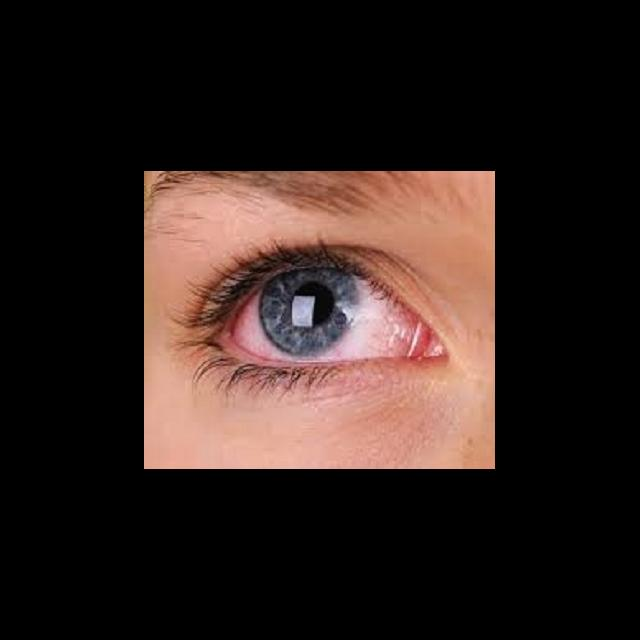eye: (229, 266, 414, 362)
iris: (260, 266, 357, 358)
